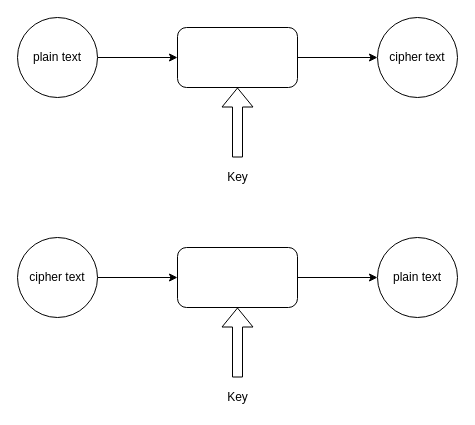
Some shapes in this 475 by 425 pixel diagram are drawn without their labels. Each missing label, with the centre of its shape:
"asu:des decrypt(plain text)" goes at point (237, 277).
"asu:des encrypt(plain text)" goes at point (237, 57).
